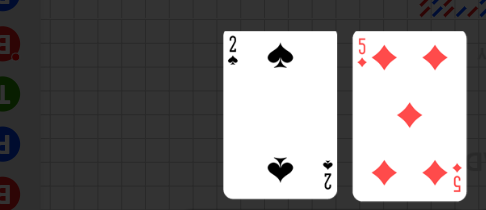2S: (226, 35, 240, 68)
9D: (356, 36, 368, 69)
